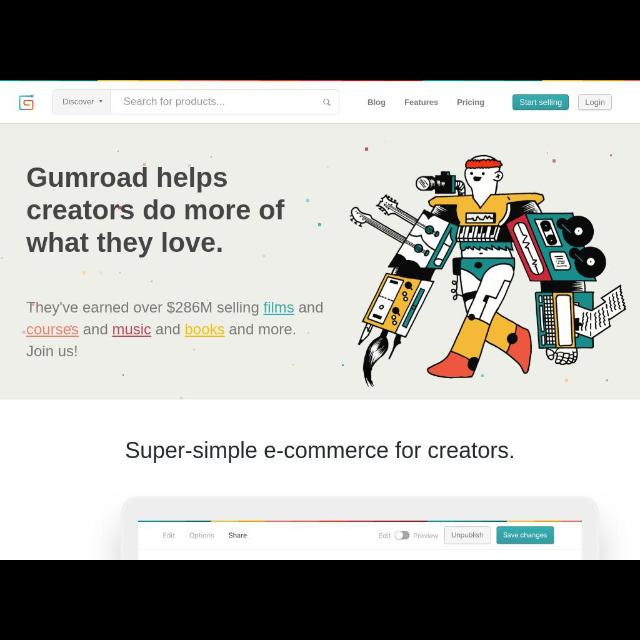icon: (542, 86, 554, 100), (598, 88, 610, 99), (574, 86, 584, 98), (544, 180, 554, 188)
iframe: (24, 238, 618, 418)
image: (516, 107, 618, 163), (482, 457, 522, 488), (416, 112, 452, 144), (176, 455, 214, 485), (329, 456, 367, 486), (22, 456, 59, 486)
multitab: (25, 172, 618, 194), (68, 198, 404, 222)
text: (24, 516, 512, 550), (219, 120, 405, 144), (530, 456, 614, 499), (69, 458, 157, 488), (224, 474, 302, 504), (376, 474, 446, 504), (292, 181, 362, 191), (281, 156, 359, 164), (74, 206, 146, 214), (308, 204, 370, 213), (23, 436, 155, 440), (492, 202, 536, 214), (558, 181, 610, 191), (370, 180, 434, 188), (230, 206, 290, 214), (22, 88, 80, 96), (58, 180, 112, 188), (166, 207, 214, 216), (448, 204, 482, 216), (284, 88, 332, 96), (210, 179, 246, 189), (413, 202, 442, 214), (489, 89, 527, 98), (25, 204, 59, 214), (91, 88, 133, 96), (122, 180, 164, 188), (444, 181, 478, 189), (541, 204, 575, 212), (173, 180, 201, 188), (27, 180, 48, 190), (184, 88, 210, 96), (231, 90, 261, 96), (587, 206, 609, 214), (144, 88, 166, 95), (258, 182, 282, 188), (566, 522, 584, 528)
textbutton: (537, 176, 617, 194), (538, 514, 612, 532), (480, 80, 536, 102)
toolbar: (1, 80, 639, 102)
